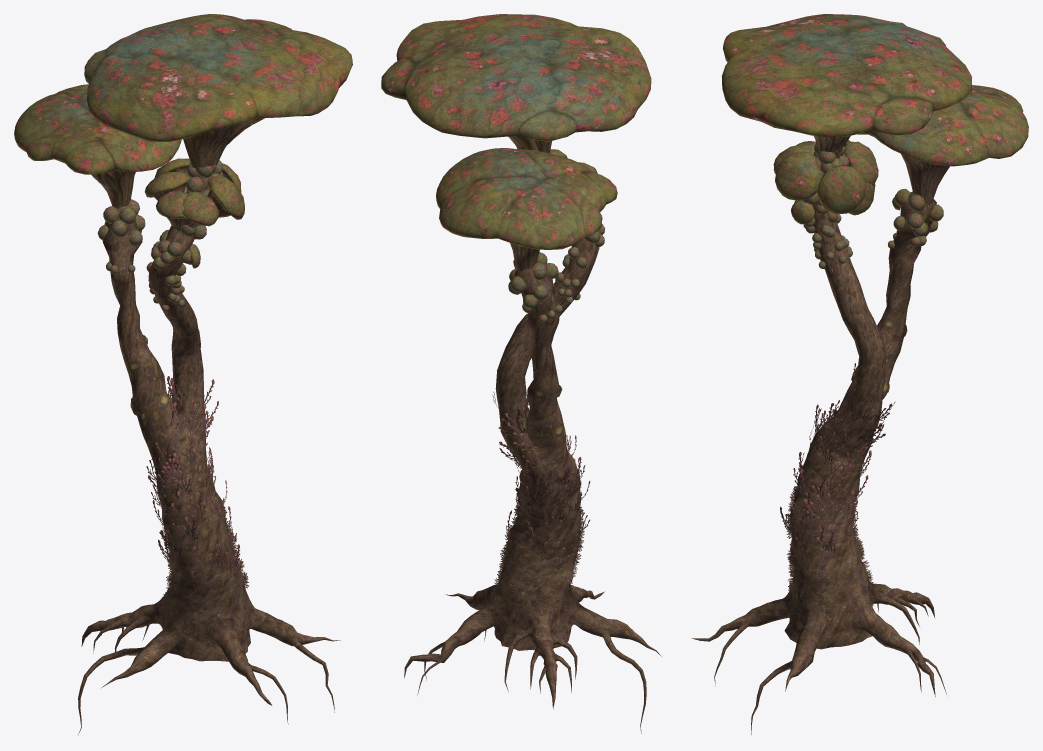
Rendered from Tree - Alien ShroomTree 01 2-CiDhUjY4.glb.
3 views of the same model, side by side, from view 1: azimuth 30°, elevation 25°; view 2: azimuth 150°, elevation 25°; view 3: azimuth 270°, elevation 25° (orthographic).
Visible parts, largest first — view 1: Shrooomtree_2(Clone), Shrooomtree_Plants2(Clone); view 2: Shrooomtree_2(Clone), Shrooomtree_Plants2(Clone); view 3: Shrooomtree_2(Clone), Shrooomtree_Plants2(Clone).
Part boxes in pixels (x1,y1,x2,y2): Shrooomtree_2(Clone): (14,14,352,734); Shrooomtree_Plants2(Clone): (146,369,251,636); Shrooomtree_2(Clone): (381,14,661,733); Shrooomtree_Plants2(Clone): (490,392,590,626); Shrooomtree_2(Clone): (691,14,1028,734); Shrooomtree_Plants2(Clone): (780,363,895,620).
Size of the model in its own units: 5.46 by 13.56 by 6.27.
4 materials, 4 textured.
